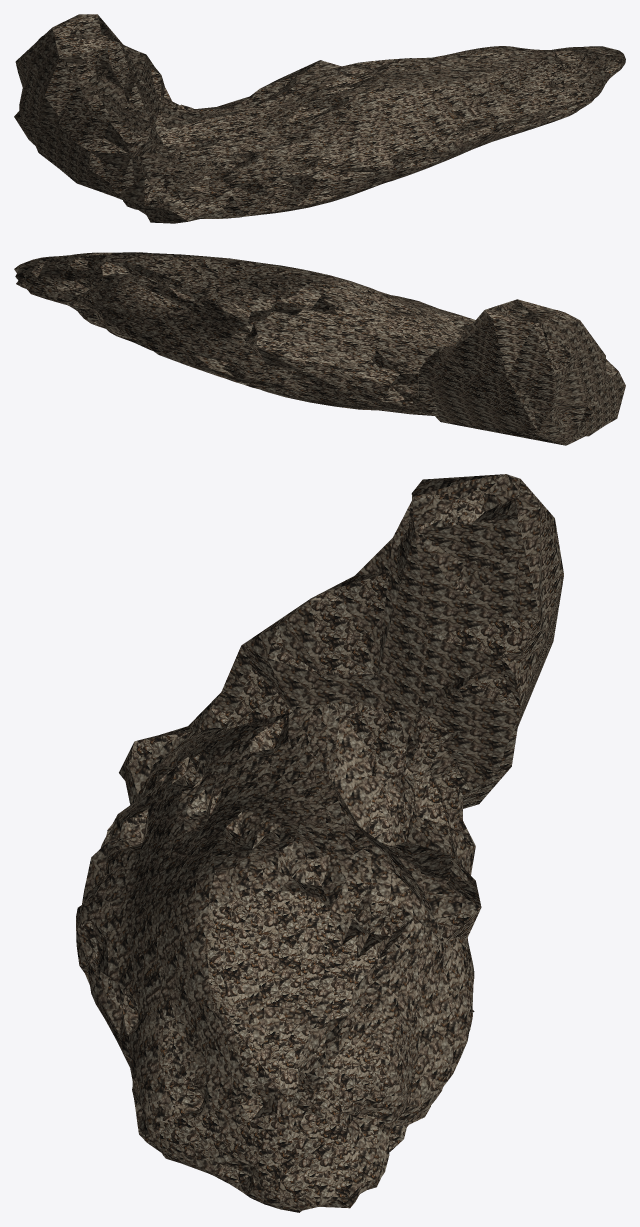
The model's file is Bacubirito Mod.glb.
3 views of the same model, one above another, from view 1: azimuth 30°, elevation 25°; view 2: azimuth 150°, elevation 25°; view 3: azimuth 270°, elevation 25° (orthographic). The views are drawn at different scales.
Parts seen in each view (by area): view 1: Group1; view 2: Group1; view 3: Group1.
Part boxes in pixels (<box>): Group1: <box>14,14,625,223</box>; Group1: <box>14,252,625,445</box>; Group1: <box>76,474,563,1212</box>.
Size of the model in its own units: 2.25 by 0.6155 by 0.8449.
20 materials, 19 textured.
